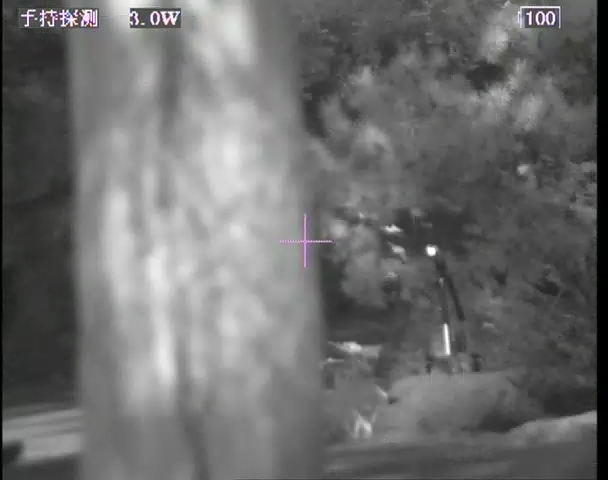my: (422, 243, 440, 259)
